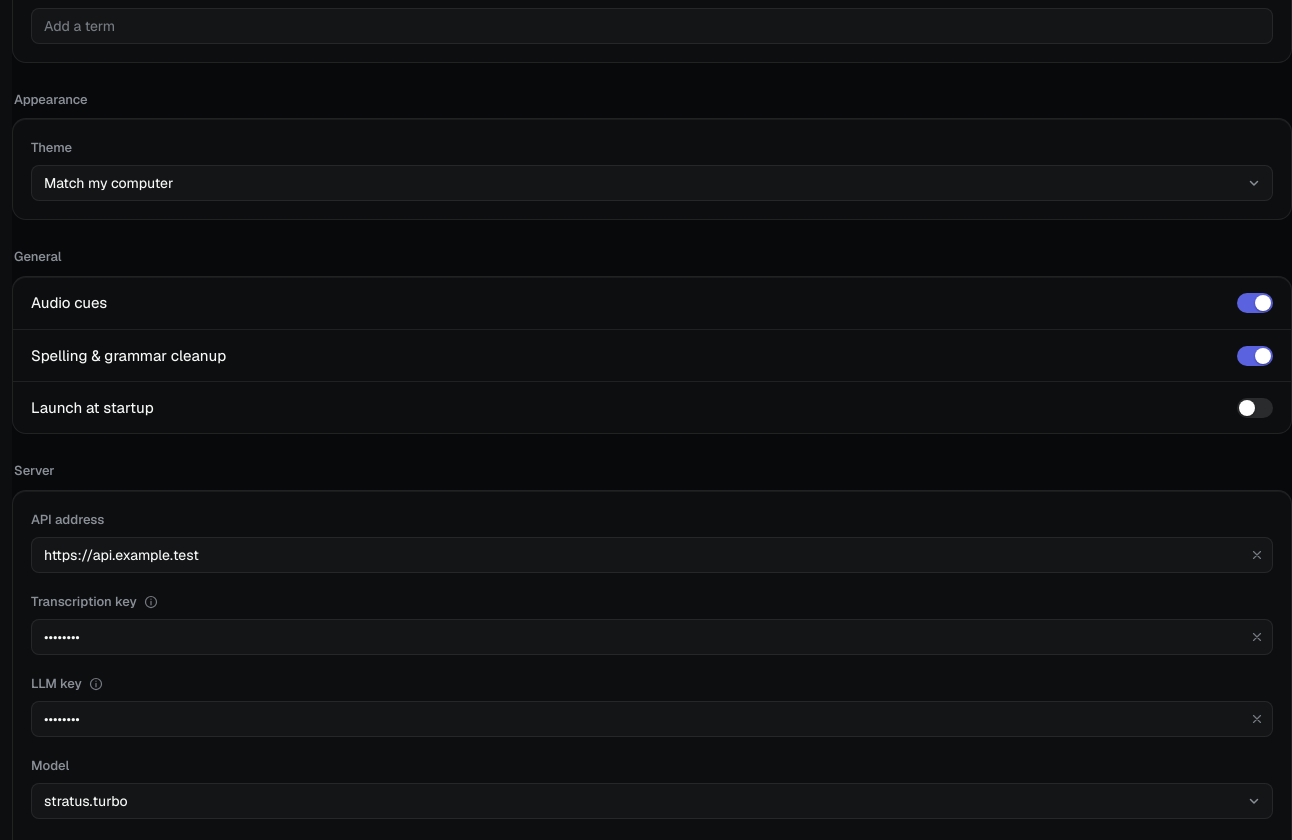
Test: SettingsPage › puts the startup switch back and says why when the system refuses it
The width and height of the screenshot is (1292, 840).
(page scrolled)
Click the switch labelled "Launch at startup".
click(1255, 408)  # box [1237,398,1273,418]
(page scrolled)
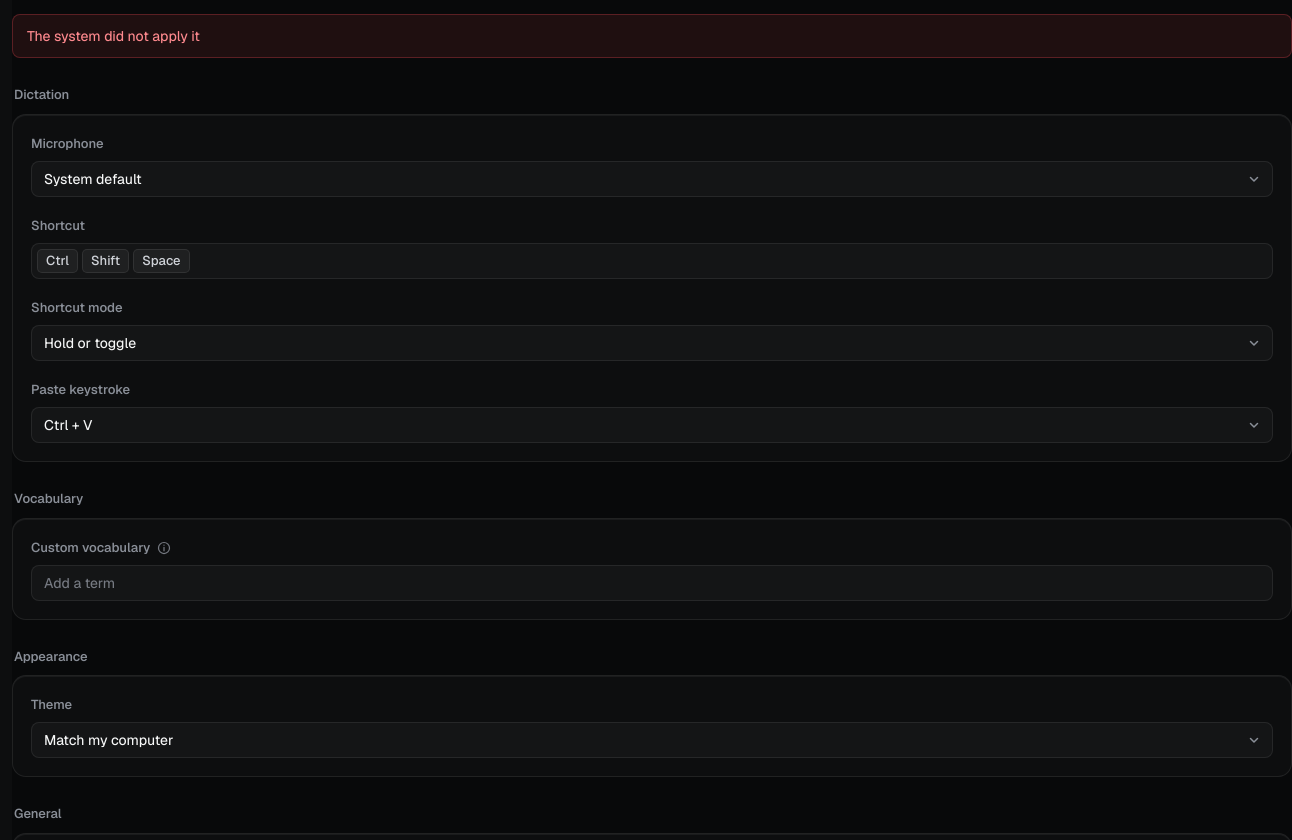
Expected: the text with class "message-error" reads "The system did not apply it", [27,27,200,45]
